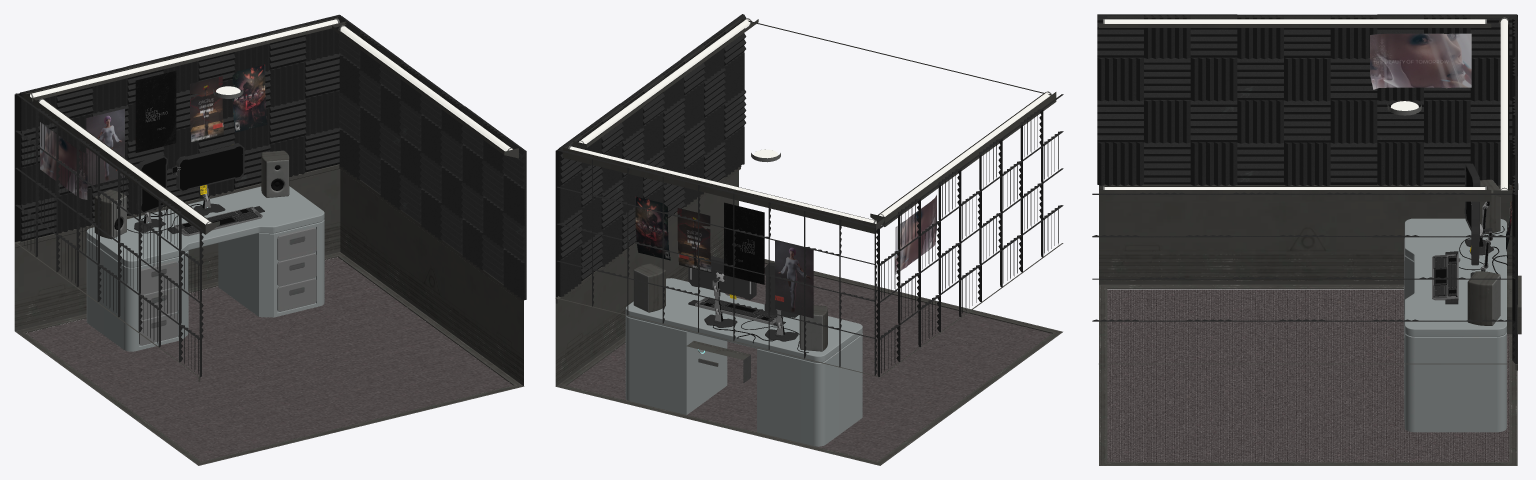
The model's file is sci-fi_computer_room.glb.
The picture shows the model from 3 angles, left to right: view 1: azimuth 30°, elevation 25°; view 2: azimuth 150°, elevation 25°; view 3: azimuth 270°, elevation 25°; orthographic projection. The views are drawn at different scales.
Visible parts, largest first — view 1: Object_7, Object_12, Object_10, Object_11, Object_2, Object_3, Object_8, Object_13, Object_6, Object_4; view 2: Object_11, Object_12, Object_7, Object_2, Object_10, Object_3, Object_8, Object_13, Object_4, Object_6; view 3: Object_7, Object_12, Object_11, Object_10, Object_2, Object_3, Object_8, Object_13, Object_4.
Boxes of the visible parts, x1=… form: Object_7: x1=26, y1=257, x2=512, y2=461; Object_12: x1=14, y1=17, x2=524, y2=465; Object_10: x1=20, y1=14, x2=464, y2=331; Object_11: x1=15, y1=16, x2=526, y2=377; Object_2: x1=86, y1=186, x2=324, y2=351; Object_3: x1=40, y1=64, x2=267, y2=199; Object_8: x1=30, y1=19, x2=512, y2=224; Object_13: x1=134, y1=143, x2=244, y2=232; Object_6: x1=14, y1=15, x2=341, y2=241; Object_4: x1=168, y1=206, x2=264, y2=236; Object_11: x1=558, y1=14, x2=1063, y2=376; Object_12: x1=555, y1=18, x2=1063, y2=465; Object_7: x1=567, y1=263, x2=1051, y2=461; Object_2: x1=625, y1=278, x2=862, y2=446; Object_10: x1=557, y1=59, x2=1001, y2=375; Object_3: x1=635, y1=195, x2=936, y2=318; Object_8: x1=570, y1=19, x2=1050, y2=223; Object_13: x1=688, y1=256, x2=798, y2=341; Object_4: x1=688, y1=297, x2=785, y2=325; Object_6: x1=555, y1=149, x2=808, y2=352; Object_7: x1=1107, y1=289, x2=1509, y2=462; Object_12: x1=1099, y1=16, x2=1521, y2=465; Object_11: x1=1092, y1=14, x2=1517, y2=321; Object_10: x1=1232, y1=14, x2=1517, y2=363; Object_2: x1=1404, y1=218, x2=1506, y2=432; Object_3: x1=1370, y1=33, x2=1512, y2=251; Object_8: x1=1104, y1=19, x2=1507, y2=190; Object_13: x1=1464, y1=163, x2=1493, y2=277; Object_4: x1=1432, y1=251, x2=1460, y2=304.
Size of the model in its own units: 2.98 by 2.1 by 2.97.
11 materials, 7 textured.
